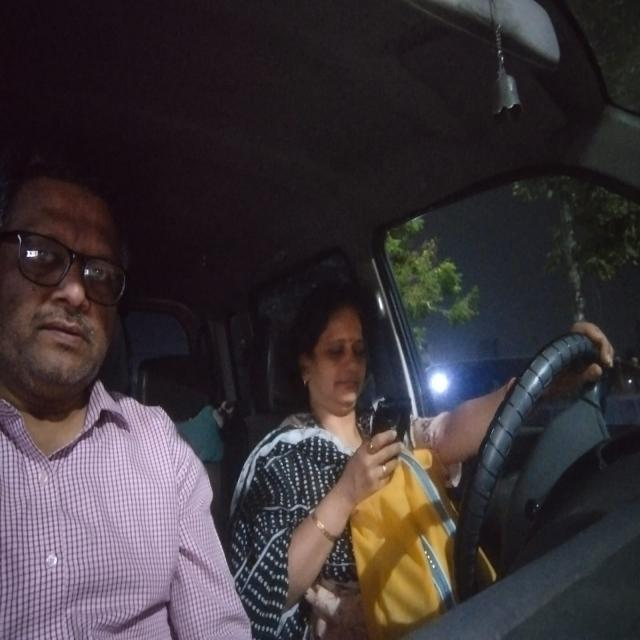mobile: (363, 391, 416, 478)
person: (0, 140, 138, 413), (289, 277, 371, 425)
